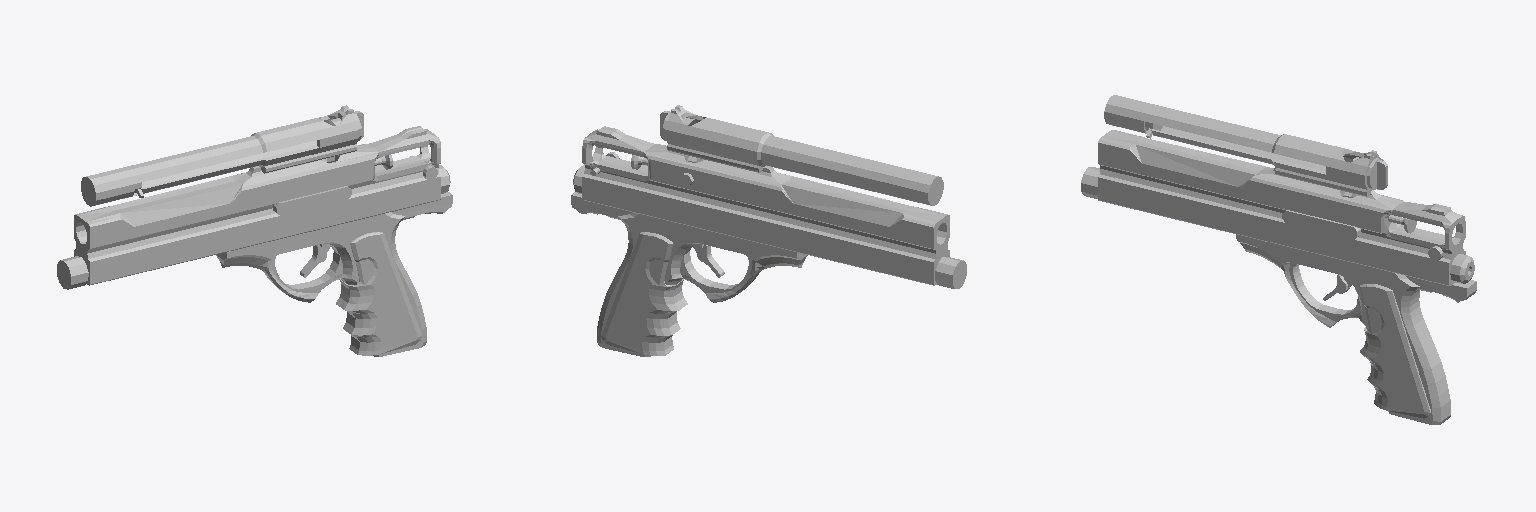
Rendered from t68smooth.obj.
3 renders of one model, left to right at view 1: azimuth 30°, elevation 25°; view 2: azimuth 150°, elevation 25°; view 3: azimuth 330°, elevation 25°, orthographic.
Visible parts, largest first — view 1: default; view 2: default; view 3: default.
Boxes of the visible parts, x1=… form: default: x1=57, y1=105, x2=452, y2=356; default: x1=571, y1=105, x2=966, y2=356; default: x1=1081, y1=95, x2=1476, y2=424.
Size of the model in its own units: 3.05 by 1.91 by 0.2928.